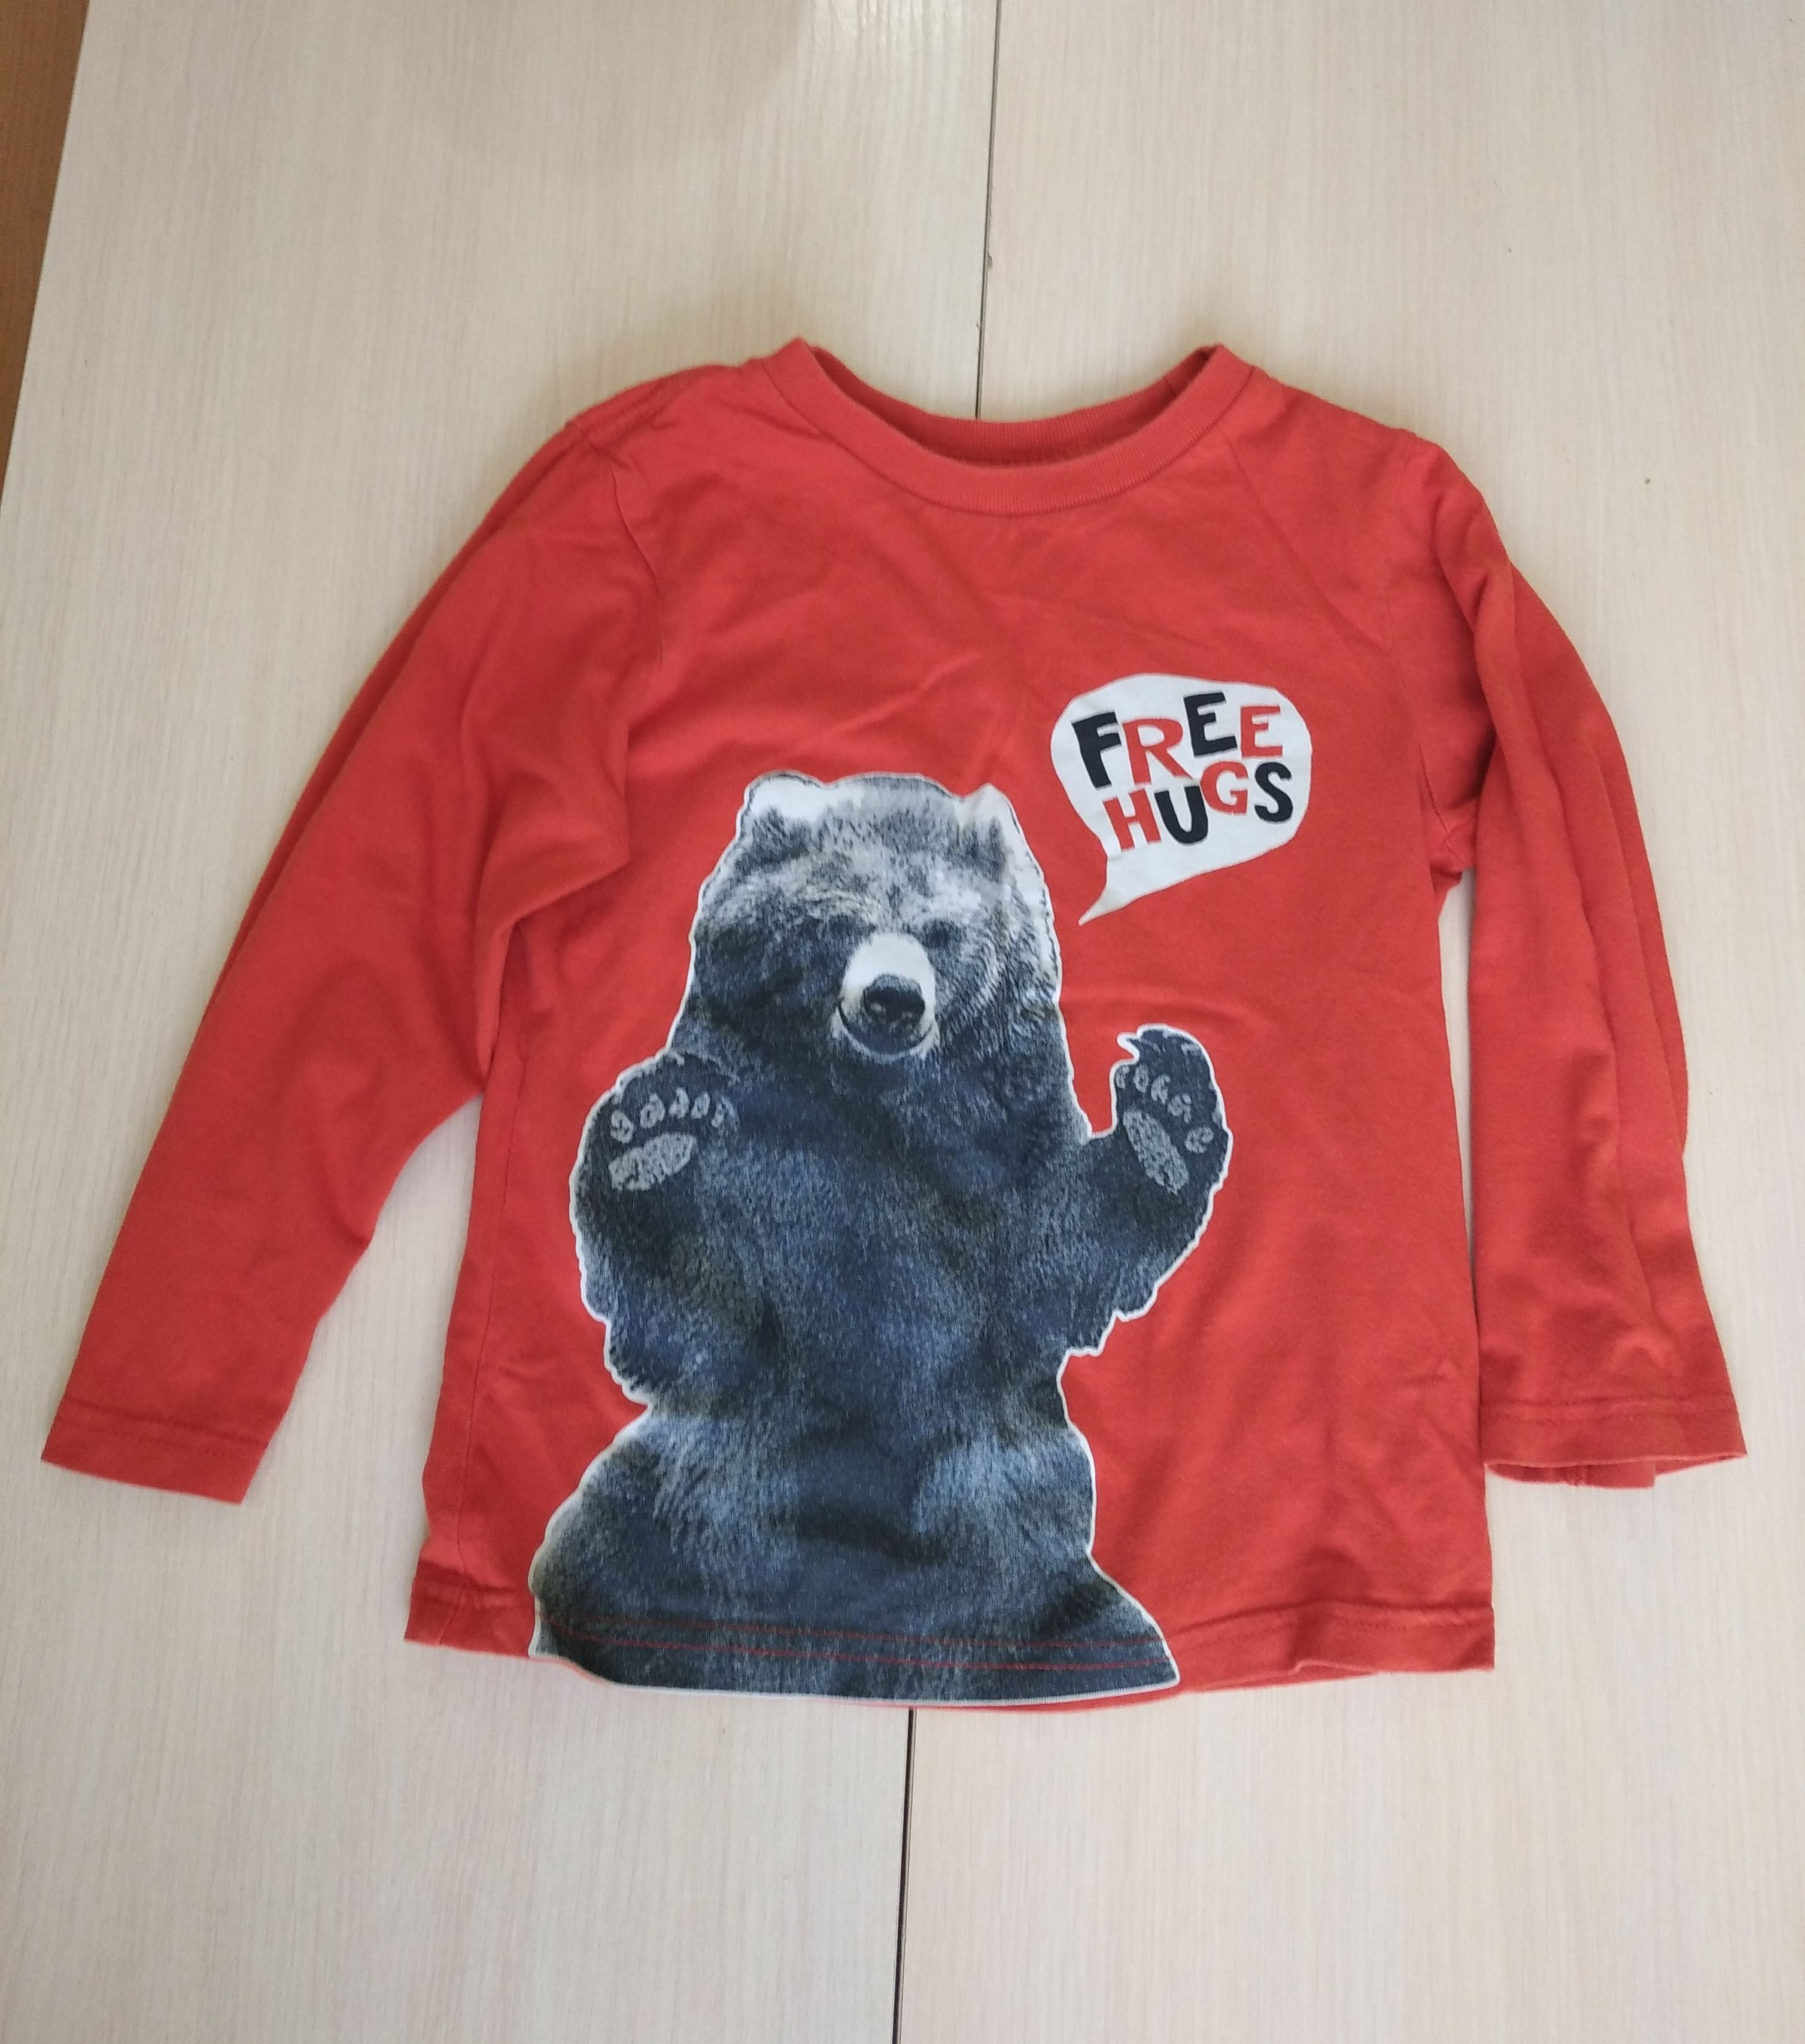clothes: (10, 333, 1751, 1727)
